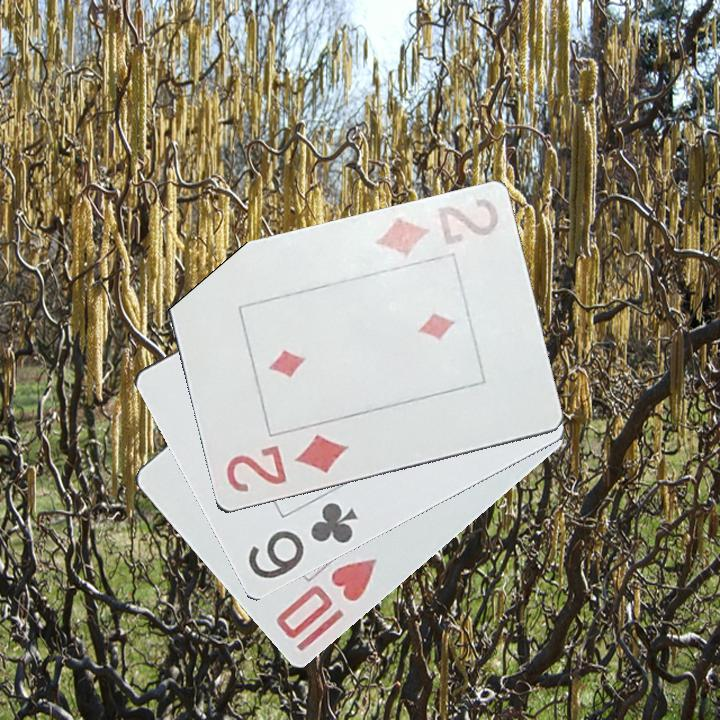2d: (371, 190, 501, 263), (222, 431, 352, 496)
6c: (244, 499, 361, 584)
Th: (272, 555, 381, 643)
